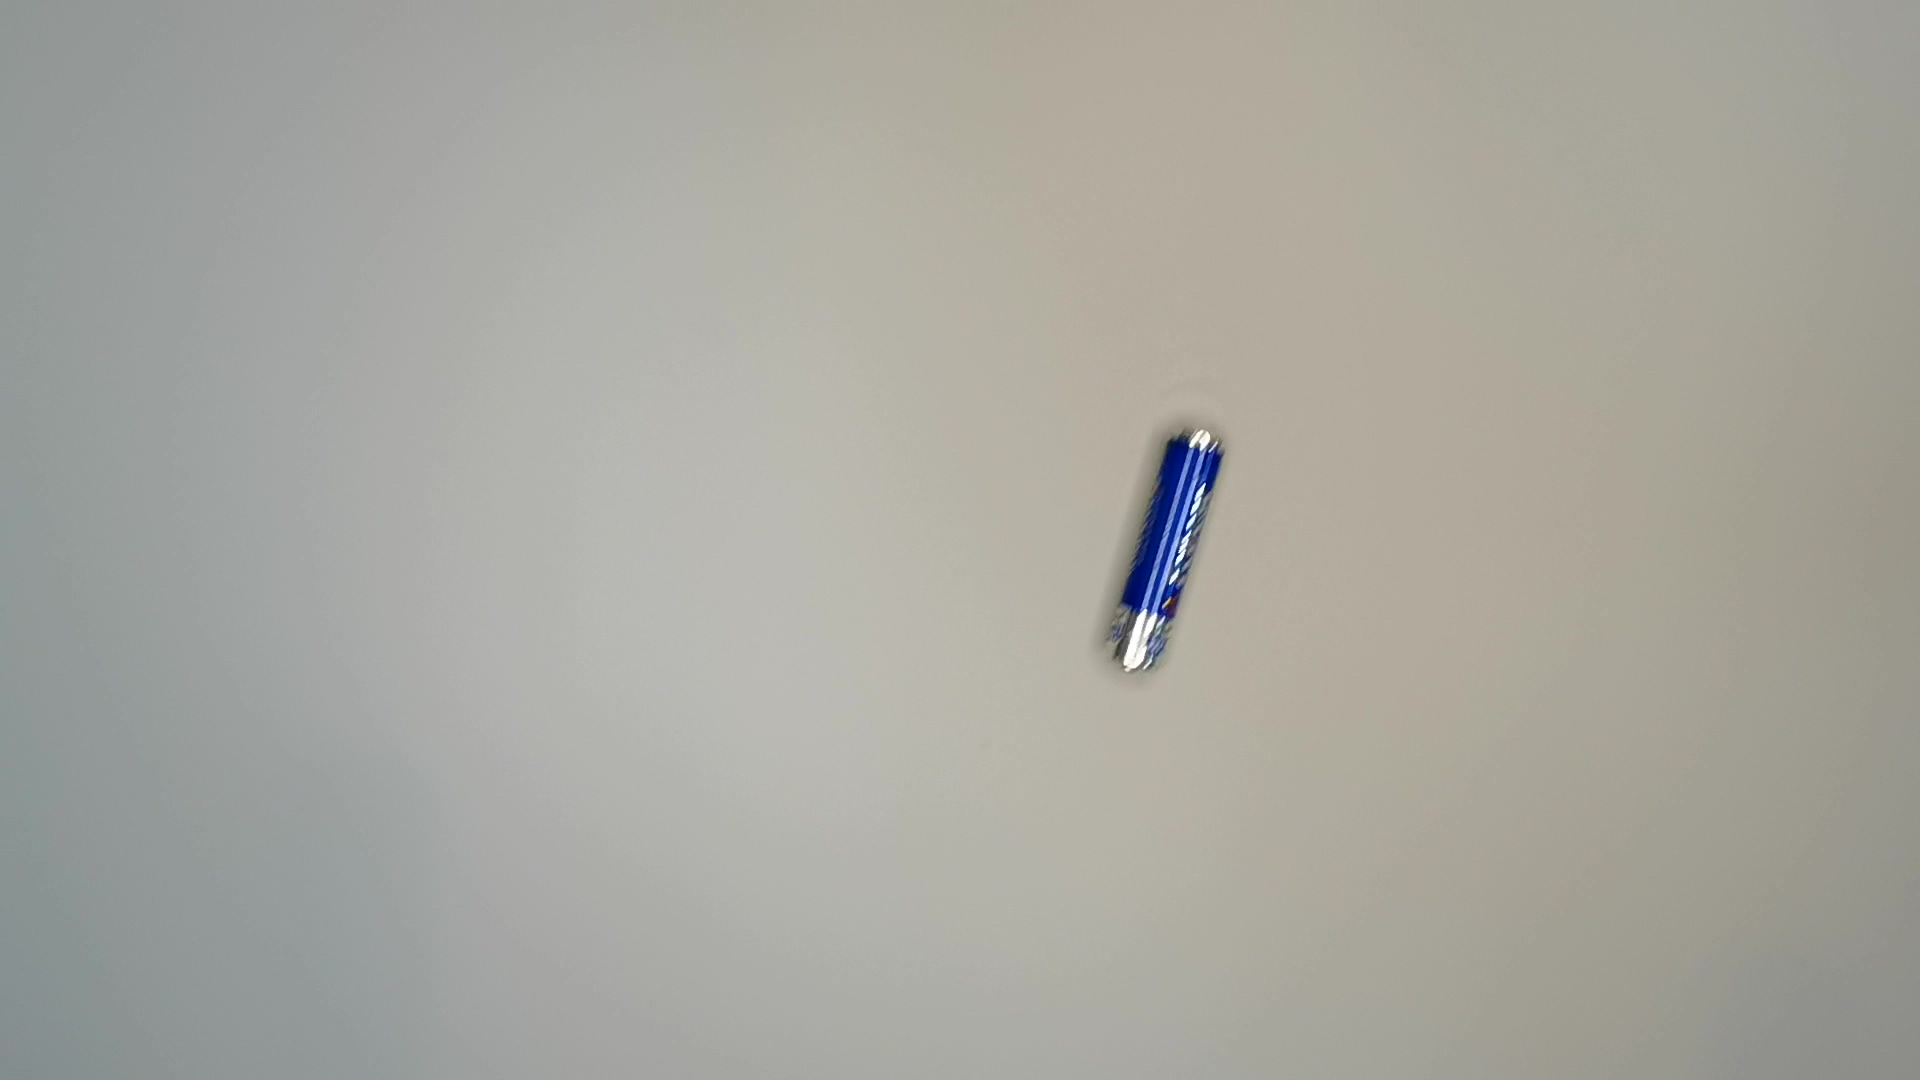battery: (1098, 422, 1230, 678)
